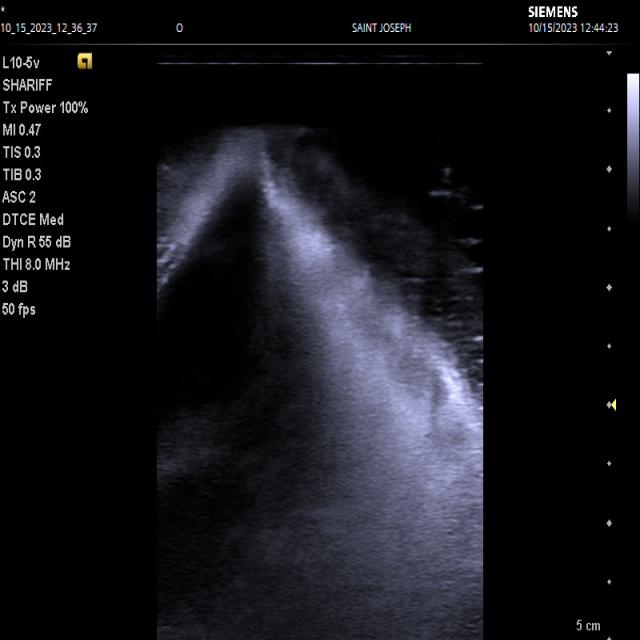tissue: (156, 127, 485, 640)
